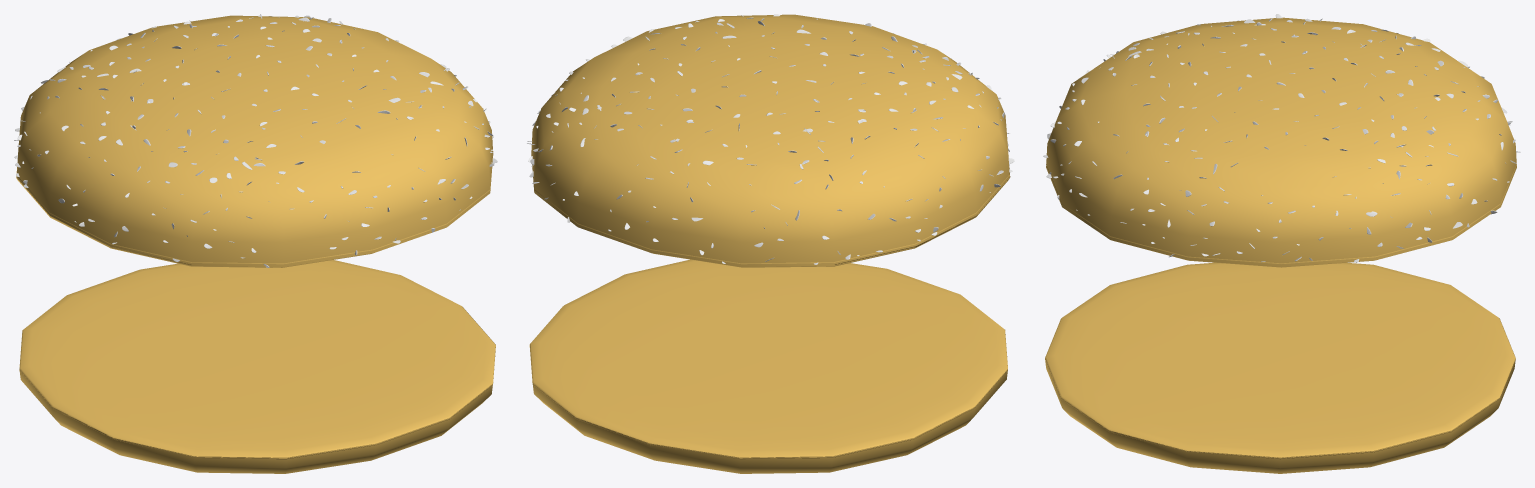
File: PAIN_BORGIR_MARCHE.fbx
The picture shows the model from 3 angles, left to right: view 1: azimuth 30°, elevation 25°; view 2: azimuth 150°, elevation 25°; view 3: azimuth 270°, elevation 25°; orthographic projection.
Visible parts, largest first — view 1: Cube.003, Cube.005, Cube.001, Cube.004; view 2: Cube.003, Cube.005, Cube.001, Cube.004; view 3: Cube.003, Cube.005, Cube.001.
Boxes of the visible parts, box(x1,y1,x2,y2) form: Cube.003: box(16, 15, 493, 267); Cube.005: box(19, 260, 495, 458); Cube.001: box(19, 307, 495, 473); Cube.004: box(16, 167, 372, 267); Cube.003: box(531, 14, 1009, 267); Cube.005: box(529, 259, 1007, 458); Cube.001: box(529, 306, 1007, 473); Cube.004: box(653, 164, 1010, 267); Cube.003: box(1046, 17, 1516, 267); Cube.005: box(1045, 262, 1515, 457); Cube.001: box(1045, 318, 1515, 473).
Size of the model in its own units: 185 by 138 by 186.
